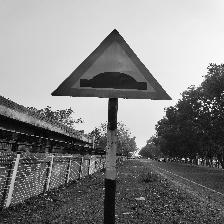Speed-breaker: (56, 36, 166, 98)
